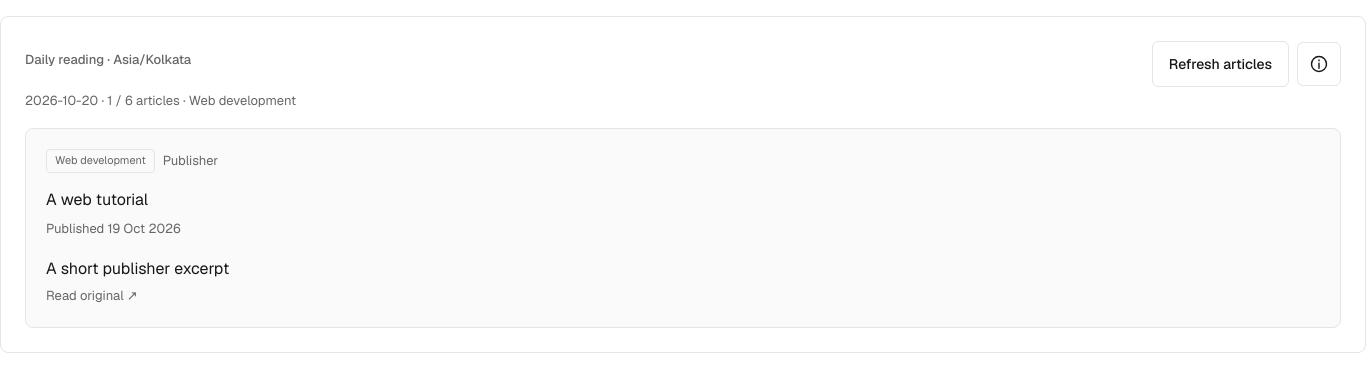
Test: Daily Articles interface › posts a manual refresh, displays filled slots and reports catalog additions
Click the button "Refresh articles": (1220,64) [1152,41,1289,87]
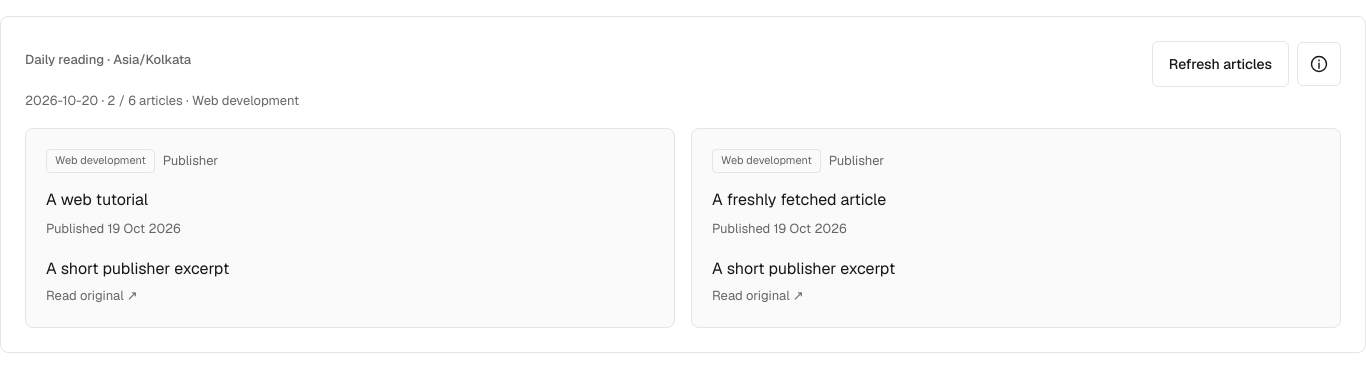
Expected: the text "A web tutorial" is shown, [46,189,148,210]
Now the text "A freshly fetched article" is shown, box [712,189,886,210]
